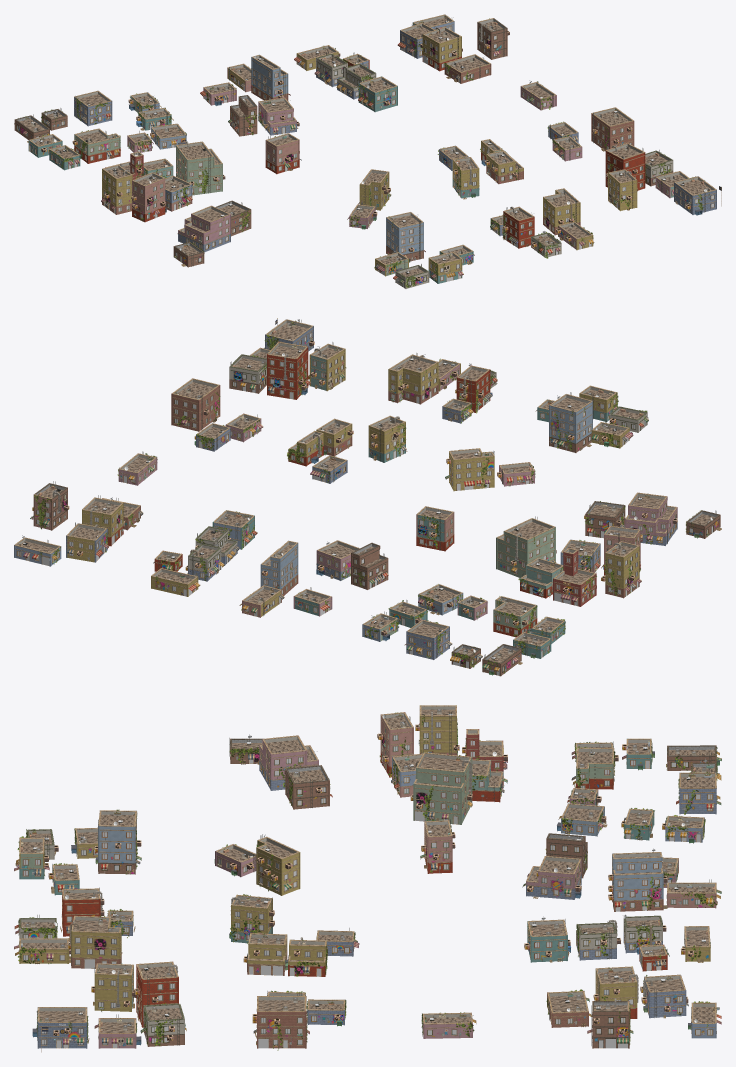
Rendered from toon_city_kit_buildings.glb.
3 renders of one model, top to bottom at view 1: azimuth 30°, elevation 25°; view 2: azimuth 150°, elevation 25°; view 3: azimuth 270°, elevation 25°, orthographic. The views are drawn at different scales.
Visible parts, largest first — view 1: no part large enough to name; view 2: no part large enough to name; view 3: kit_027.
Part boxes in pixels (x1,y1,x2,y2): kit_027: [417, 757, 466, 824].
Size of the model in its own units: 175 by 14.77 by 174.
Materials: 27 (19 with a texture image).
